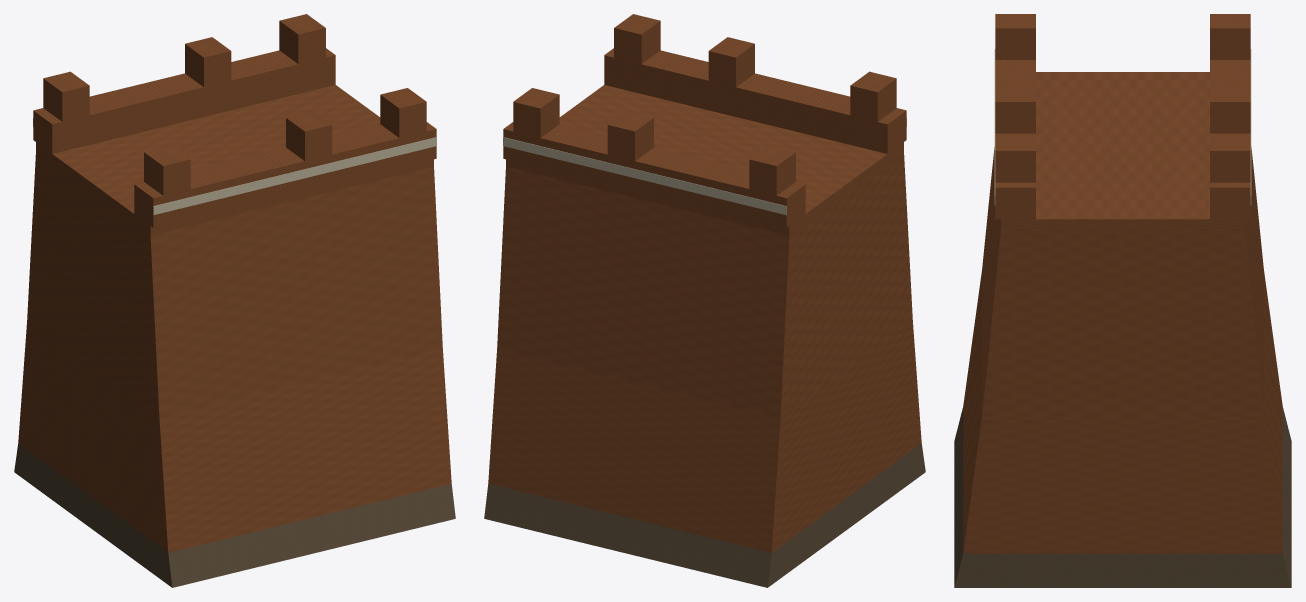
The model's file is Berber_Wall_Age2_damaged_6m.fbx.
The picture shows the model from 3 angles, left to right: view 1: azimuth 30°, elevation 25°; view 2: azimuth 150°, elevation 25°; view 3: azimuth 270°, elevation 25°; orthographic projection. The views are drawn at different scales.
Visible parts, largest first — view 1: damaged_6m_rammed_curtain_upper, damaged_6m_rammed_curtain_lower, damaged_6m_walk_deck, damaged_6m_battered_stone_foot, damaged_6m_parapet.001, damaged_6m_parapet, damaged_6m_owner_painted_band, damaged_6m_merlon.003, damaged_6m_merlon.005, damaged_6m_merlon.001, damaged_6m_merlon, damaged_6m_merlon.002 (+1 smaller); view 2: damaged_6m_rammed_curtain_upper, damaged_6m_rammed_curtain_lower, damaged_6m_walk_deck, damaged_6m_battered_stone_foot, damaged_6m_parapet, damaged_6m_parapet.001, damaged_6m_owner_painted_band.001, damaged_6m_merlon, damaged_6m_merlon.002, damaged_6m_merlon.004, damaged_6m_merlon.003, damaged_6m_merlon.005 (+1 smaller); view 3: damaged_6m_rammed_curtain_upper, damaged_6m_rammed_curtain_lower, damaged_6m_walk_deck, damaged_6m_battered_stone_foot, damaged_6m_parapet, damaged_6m_parapet.001, damaged_6m_merlon.001, damaged_6m_merlon.002, damaged_6m_merlon.004, damaged_6m_merlon.005, damaged_6m_merlon, damaged_6m_merlon.003.
Boxes of the visible parts, x1,y1,x2,y2 form: damaged_6m_rammed_curtain_upper: (27,152,442,417); damaged_6m_rammed_curtain_lower: (18,321,451,552); damaged_6m_walk_deck: (36,85,433,235); damaged_6m_battered_stone_foot: (14,443,455,587); damaged_6m_parapet.001: (33,48,335,153); damaged_6m_parapet: (134,122,436,227); damaged_6m_owner_painted_band: (153,137,436,215); damaged_6m_merlon.003: (43,71,89,121); damaged_6m_merlon.005: (279,14,325,64); damaged_6m_merlon.001: (286,111,332,160); damaged_6m_merlon: (144,145,190,195); damaged_6m_merlon.002: (380,88,426,137); damaged_6m_rammed_curtain_upper: (497,152,912,417); damaged_6m_rammed_curtain_lower: (488,321,921,552); damaged_6m_walk_deck: (506,85,903,235); damaged_6m_battered_stone_foot: (484,443,925,587); damaged_6m_parapet: (604,48,906,153); damaged_6m_parapet.001: (503,122,805,227); damaged_6m_owner_painted_band.001: (503,137,786,215); damaged_6m_merlon: (850,71,896,121); damaged_6m_merlon.002: (614,14,660,64); damaged_6m_merlon.004: (607,111,653,160); damaged_6m_merlon.003: (749,145,795,195); damaged_6m_merlon.005: (513,88,559,137); damaged_6m_rammed_curtain_upper: (982,147,1263,416); damaged_6m_rammed_curtain_lower: (963,271,1282,553); damaged_6m_walk_deck: (1001,72,1244,229); damaged_6m_battered_stone_foot: (954,407,1291,587); damaged_6m_parapet: (995,60,1035,219); damaged_6m_parapet.001: (1210,60,1250,219); damaged_6m_merlon.001: (995,87,1035,133); damaged_6m_merlon.002: (995,136,1035,182); damaged_6m_merlon.004: (1210,87,1250,133); damaged_6m_merlon.005: (1210,136,1250,182); damaged_6m_merlon: (995,14,1035,59); damaged_6m_merlon.003: (1210,14,1250,59).
Size of the model in its own units: 600 by 820 by 580.
3 materials, 3 textured.
